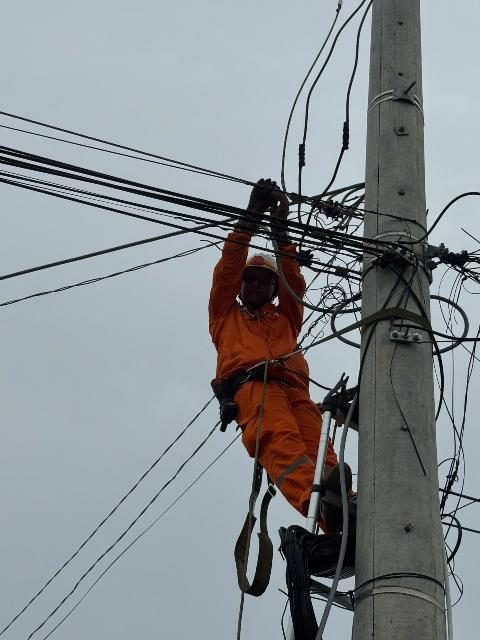gloves: (241, 174, 276, 233), (264, 192, 299, 248)
harness: (207, 354, 323, 403)
helmet: (241, 247, 283, 279)
shoes: (312, 457, 361, 529)
